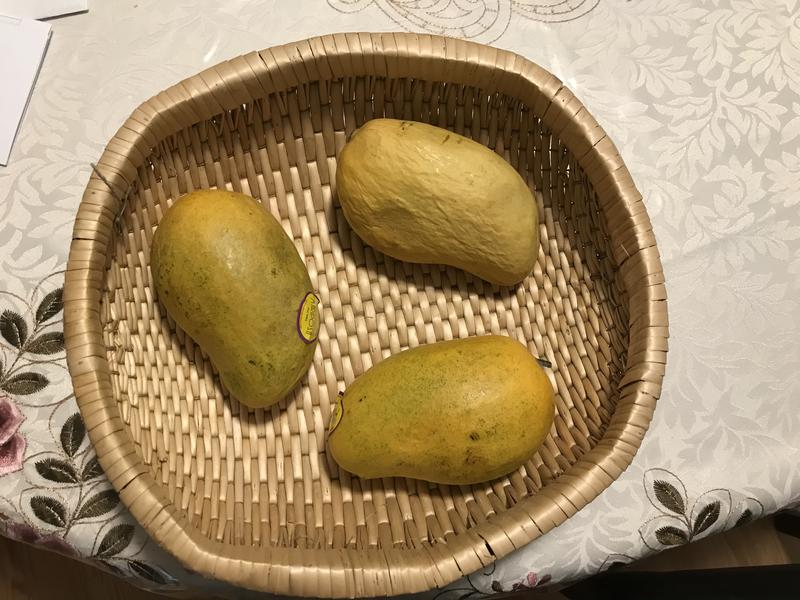mango: (145, 184, 322, 422), (332, 110, 547, 303), (323, 325, 558, 495)
